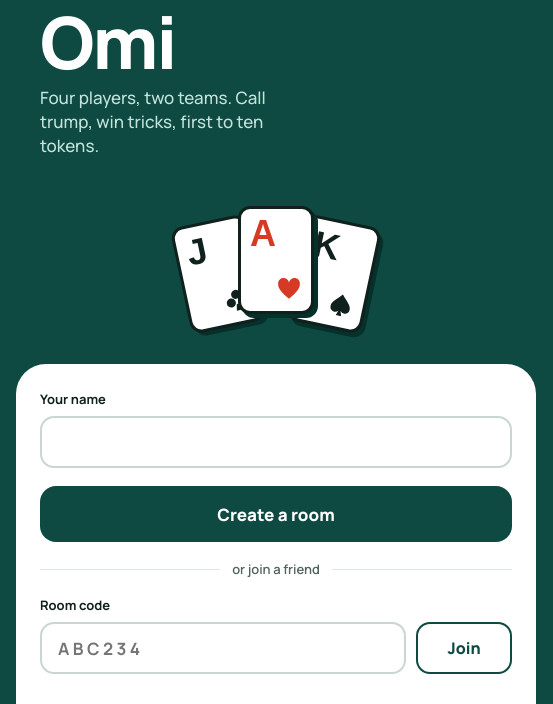
Test case: HomeScreen › asks for a name before creating
The width and height of the screenshot is (553, 704).
What coordinates should you click on to do the following:
click the button "Create a room"
I would click on:
 (276, 514)
Its box is [40,486,512,542].
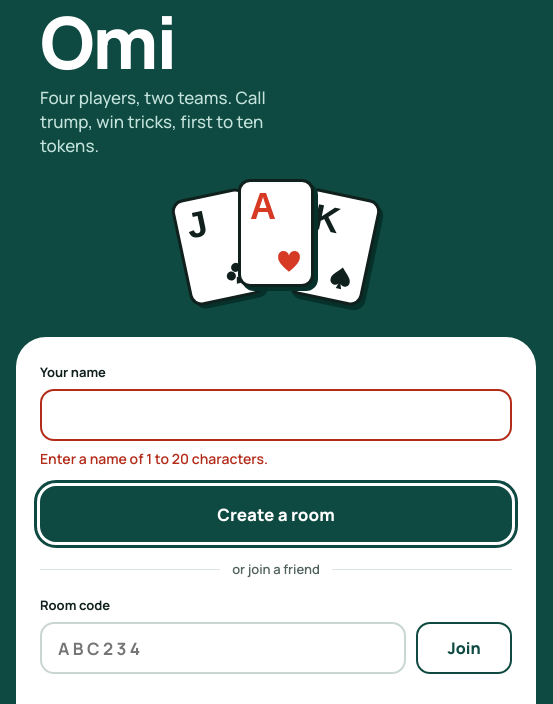
Now the text "Enter a name of 1 to 20 characters." is shown, box [40,449,268,468]
